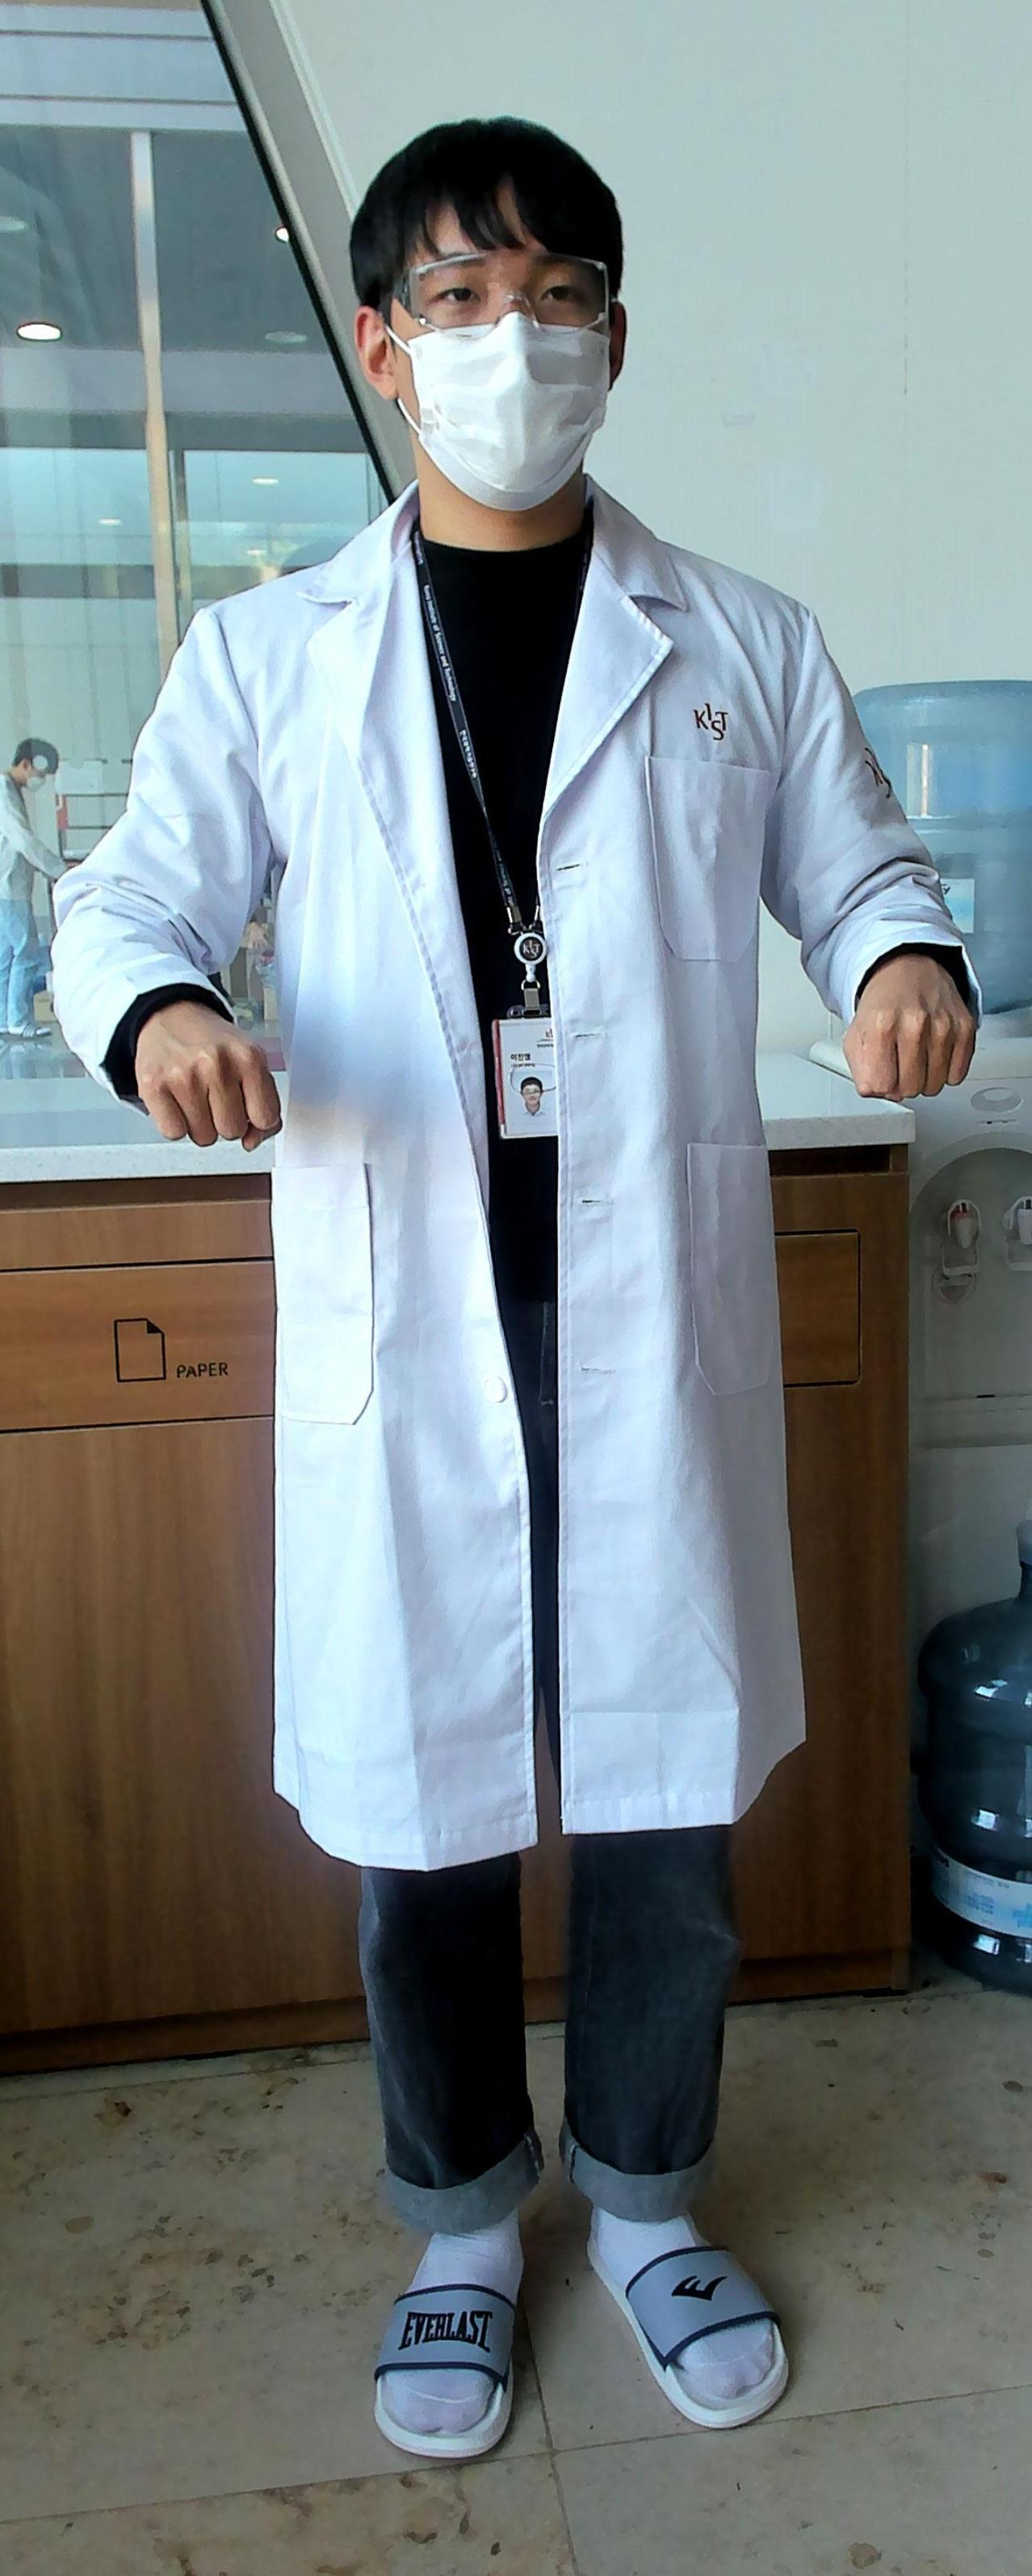lab_coat: (251, 595, 802, 1828)
